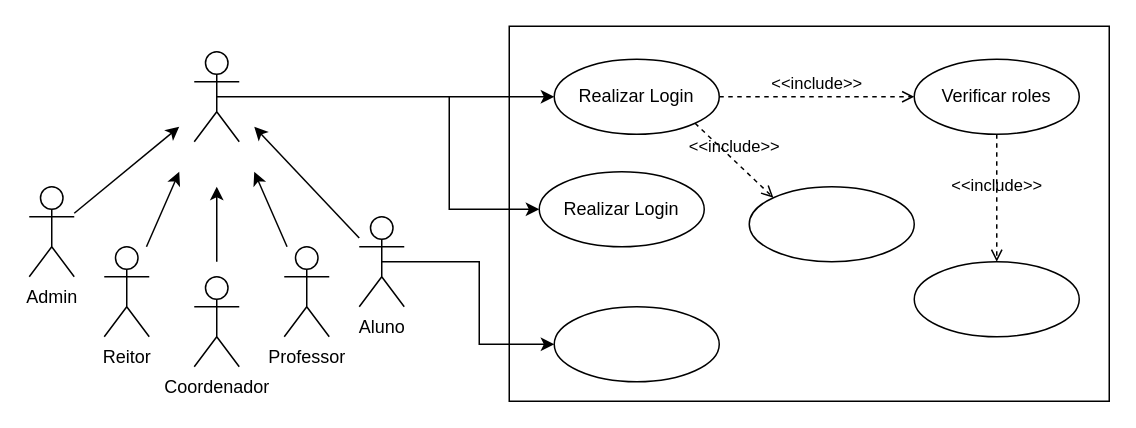
Some shapes in this 1136 by 428 pixel diagram are drawn without their labels. Each missing label, with the centre of its shape:
"Registrar em um curso" goes at point (636, 343).
"Usuário" goes at point (216, 96).
"Verificar OTP" goes at point (831, 223).
"Verificar permissions" goes at point (996, 298).
